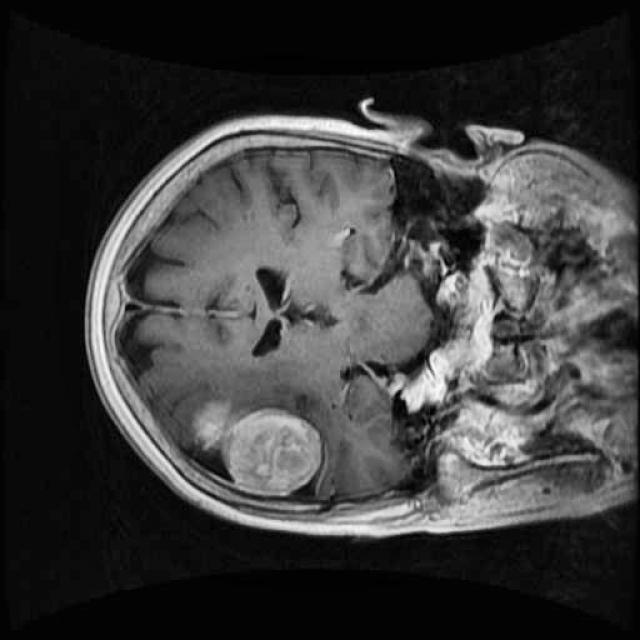Tumor: (173, 382, 343, 509)
